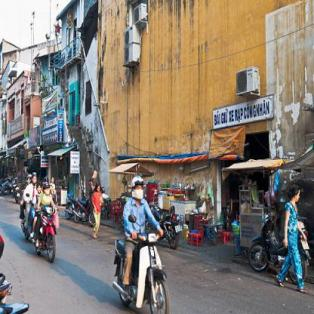Motocicleta: (108, 220, 178, 314), (31, 201, 60, 270)
